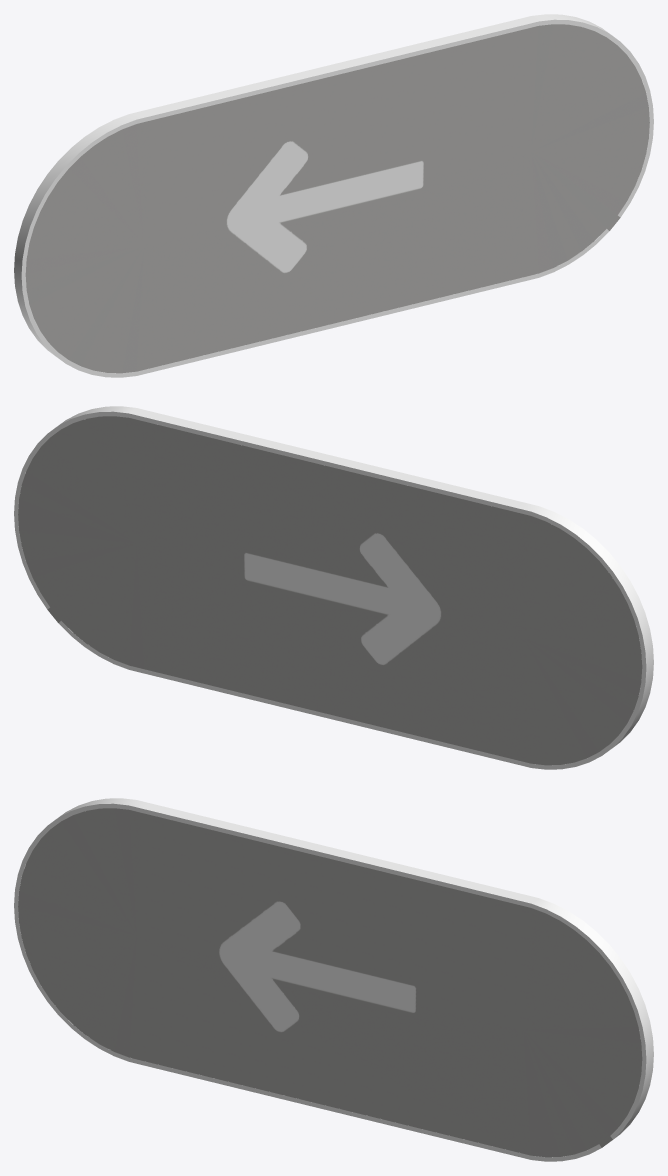
3 views of the same model, one above another, from view 1: azimuth 30°, elevation 25°; view 2: azimuth 150°, elevation 25°; view 3: azimuth 330°, elevation 25° (orthographic).
Bounding box in the file's own units: 0.0517 × 0.02 × 0.00107.
2 materials, 1 textured.
